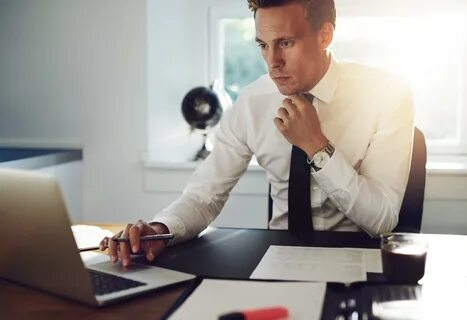awake: (215, 1, 415, 240)
